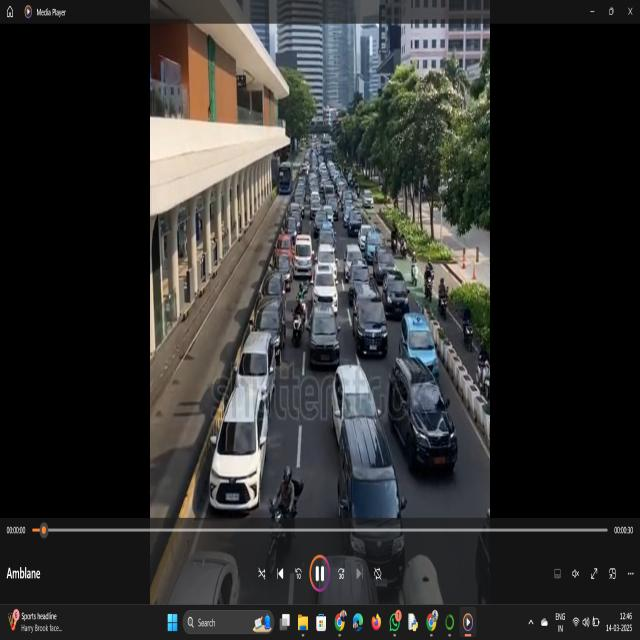Ambulance: (290, 234, 318, 283)
